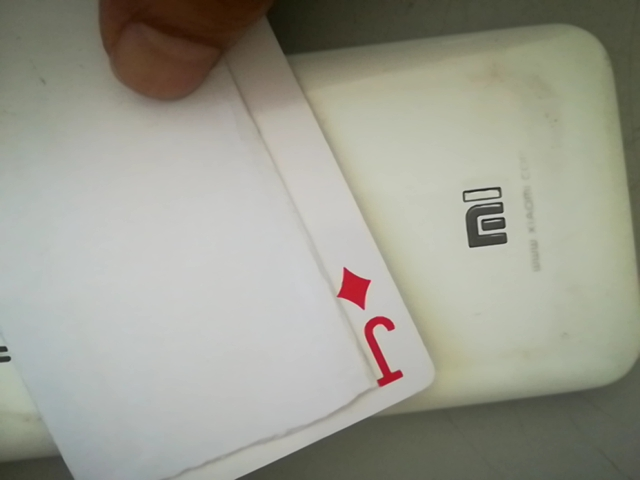fk j: (331, 262, 421, 398)
